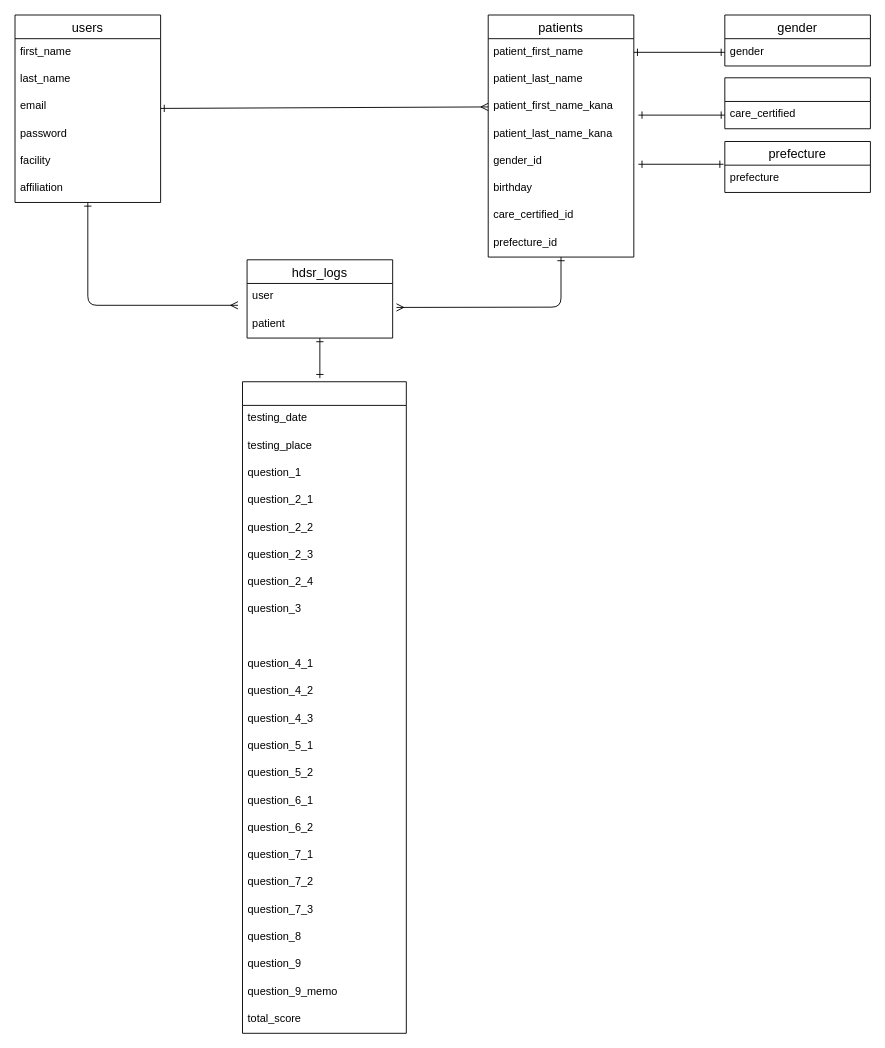
This 885x1048 diagram has some shape labels left out. Each missing label, with the box of its shape:
care_certifide: (724, 77, 870, 129)
hasegawa_dimentia_scale: (242, 381, 406, 1033)
